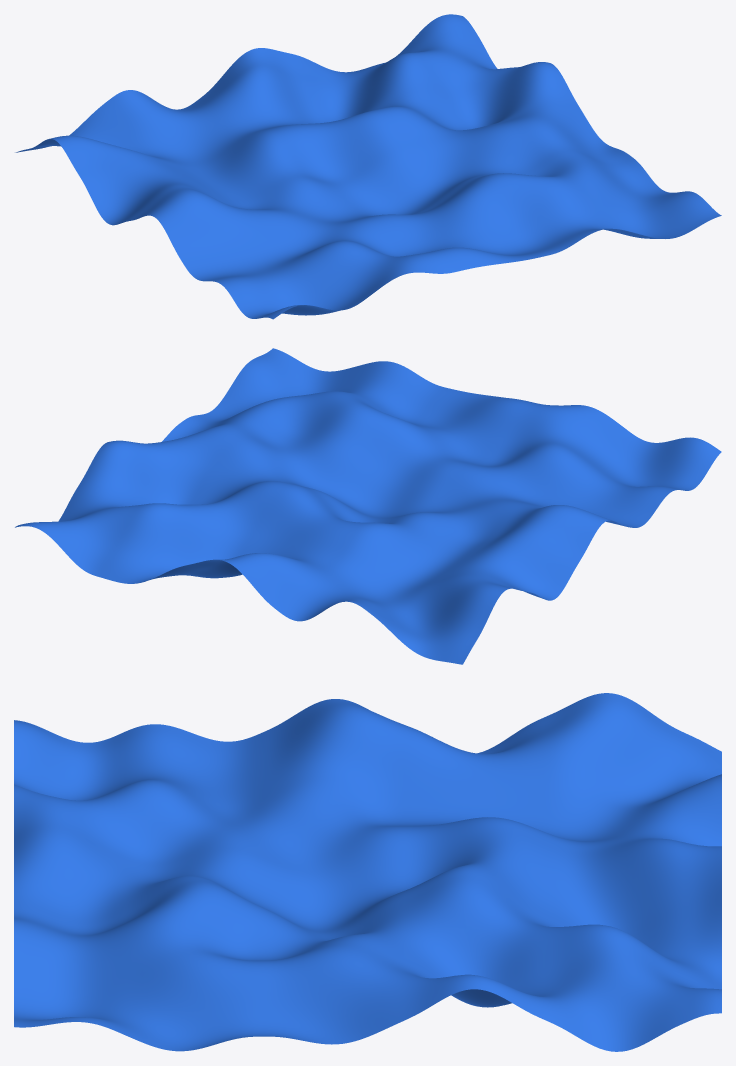
Rendered from Landscape_v3.fbx.
3 views of the same model, one above another, from view 1: azimuth 30°, elevation 25°; view 2: azimuth 150°, elevation 25°; view 3: azimuth 270°, elevation 25° (orthographic). The views are drawn at different scales.
Parts seen in each view (by area): view 1: Landscape.001; view 2: Landscape.001; view 3: Landscape.001.
Boxes of the visible parts, <box> form: Landscape.001: <box>15,14,721,319</box>; Landscape.001: <box>15,348,721,664</box>; Landscape.001: <box>14,693,721,1051</box>.
Size of the model in its own units: 200 by 25.23 by 200.
